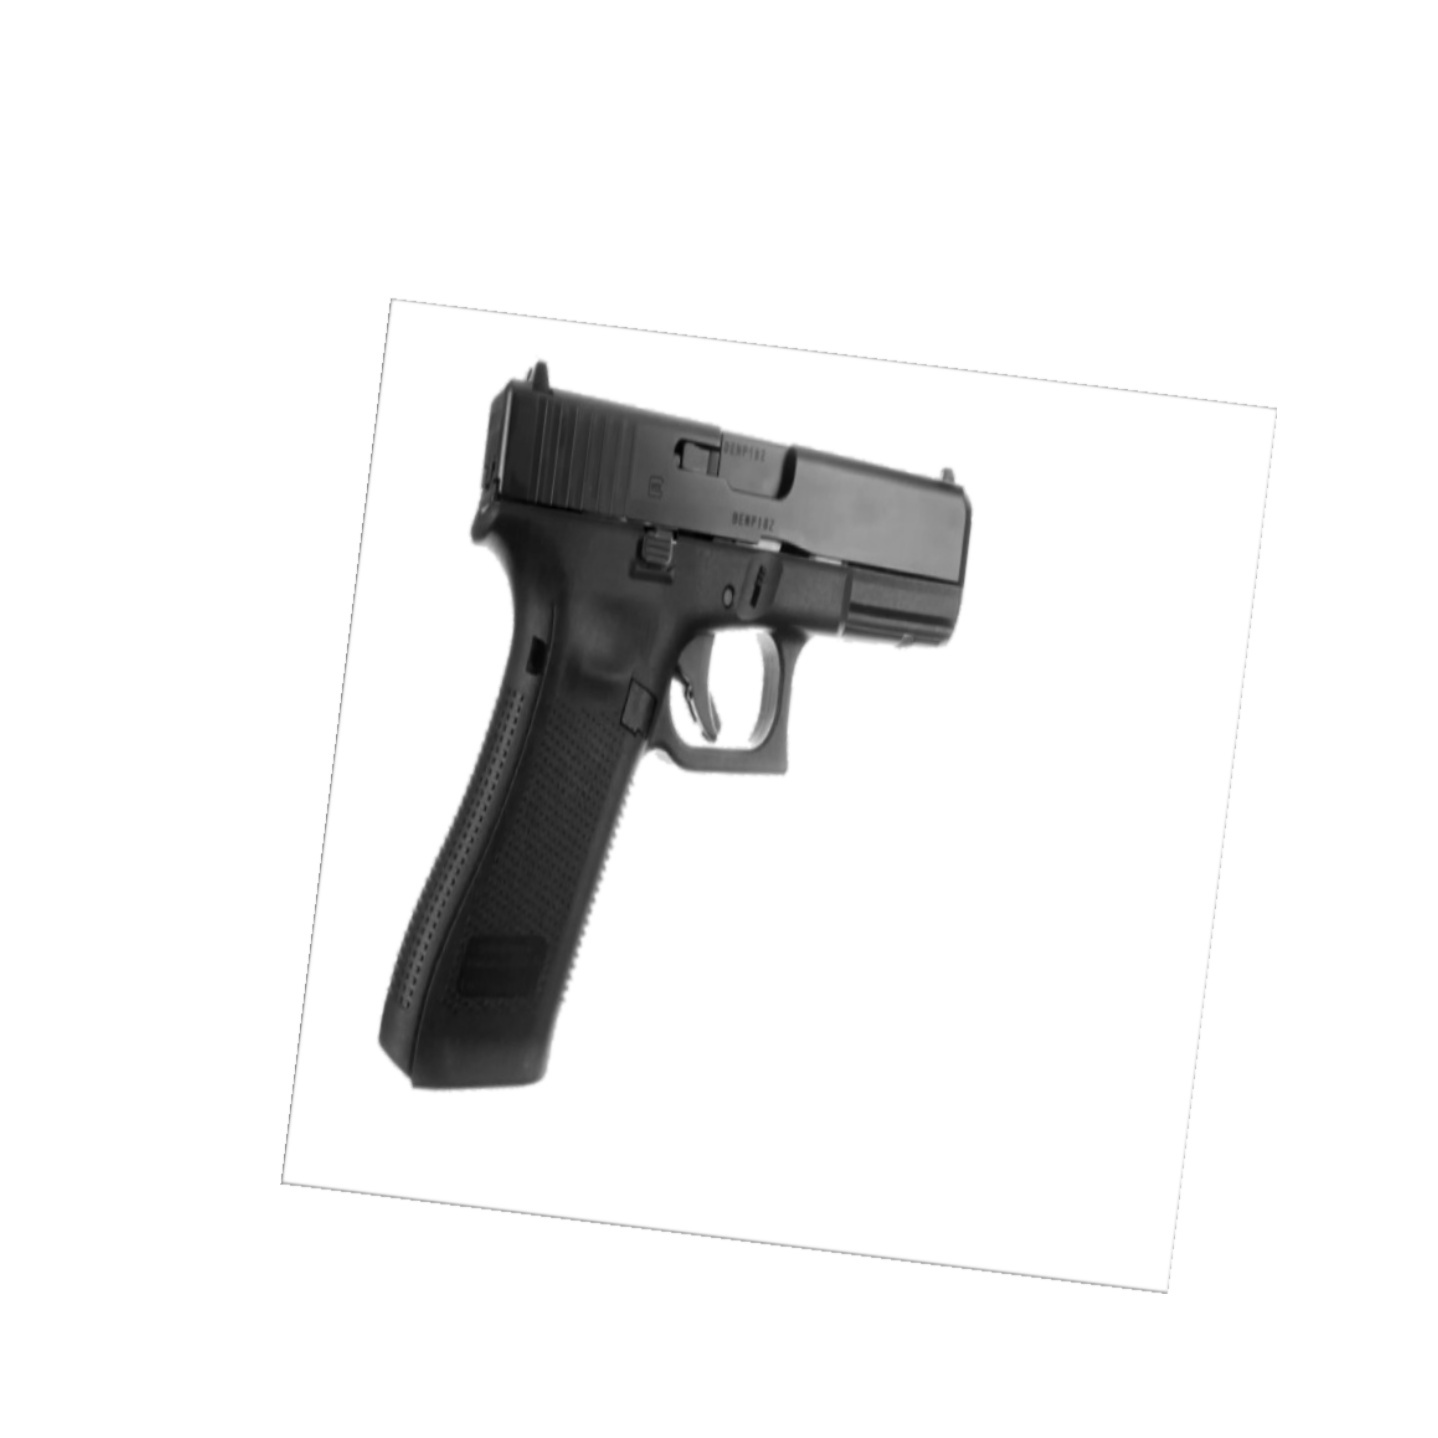gun: (373, 353, 980, 1097)
